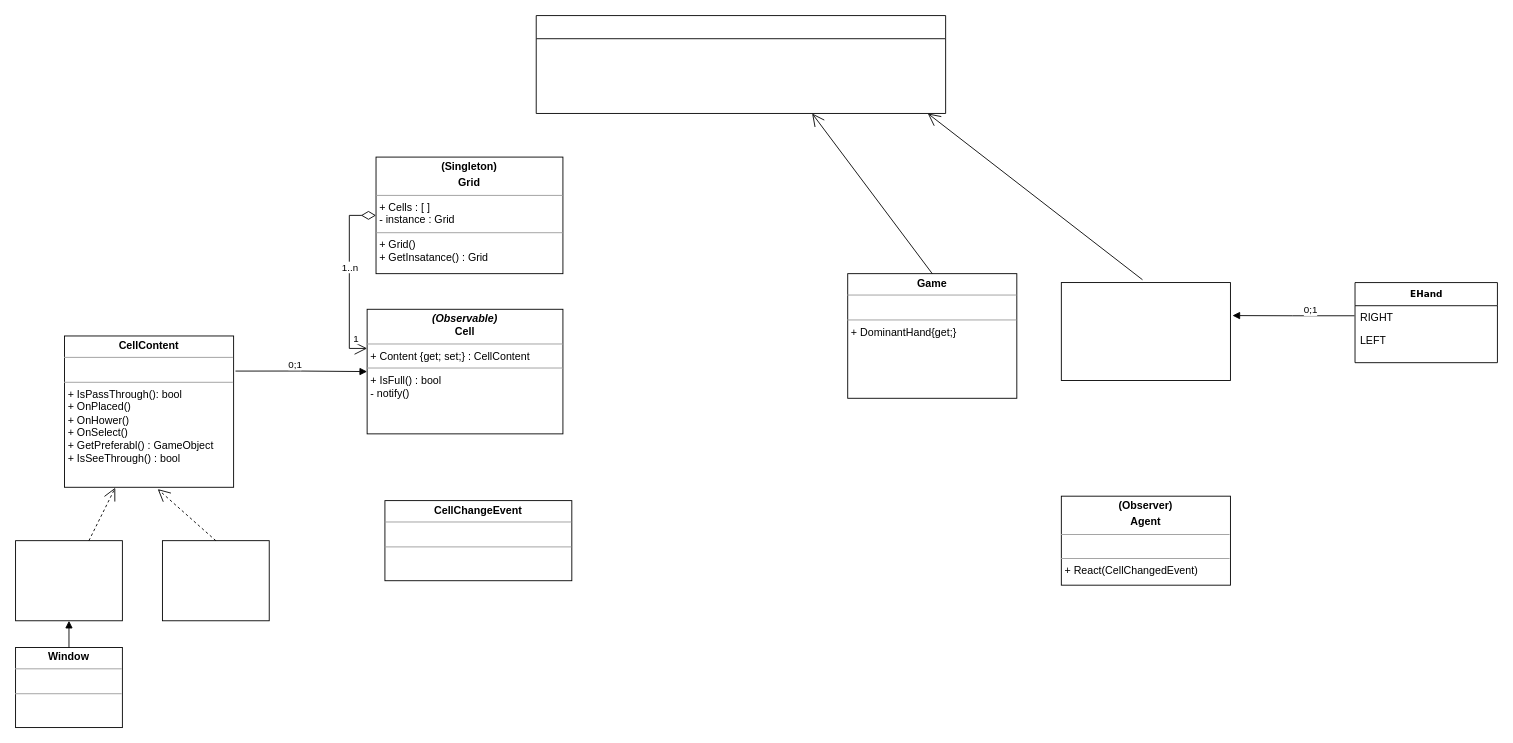
Image size: 1513x743. Some labels were removed from this diagram. Here are the shapes that lost their labels. From the top down, the centre of each, then its label:
At point 740,64: "MonoBehavior (script pour etre attaché a un game object)".
At point 1145,331: "Hand + hand{get;} : EHand + AnimateUpdate() + LocomotionUpdate()".
At point 68,580: "Wall".
At point 215,580: "Door".
